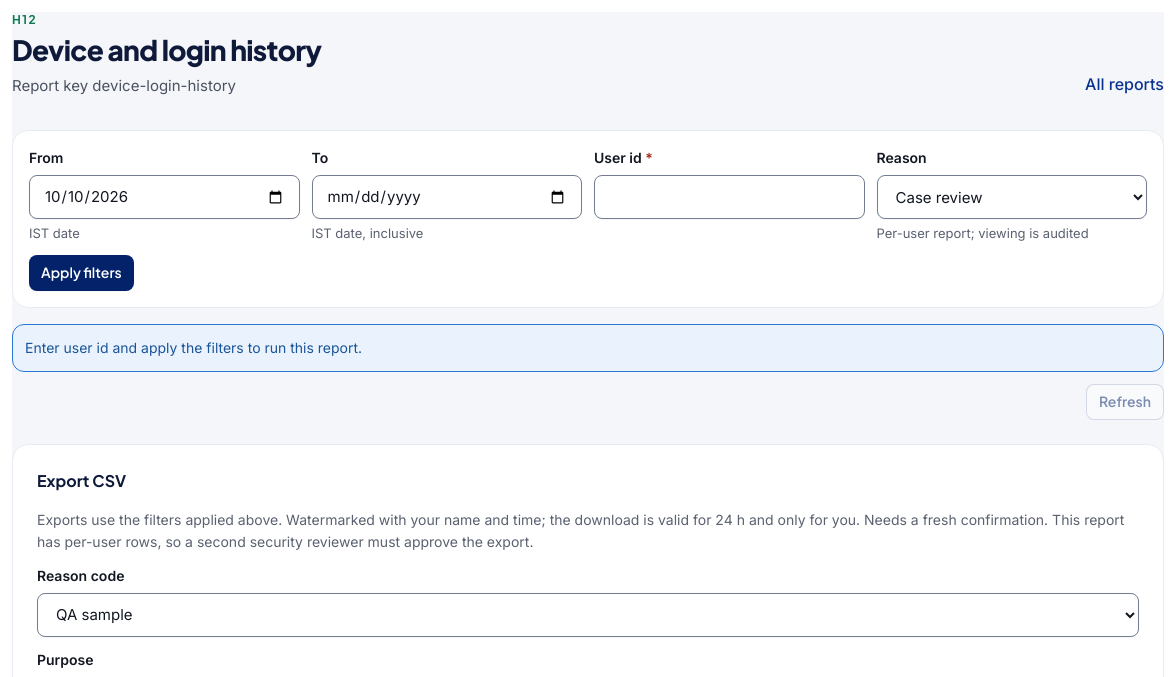
Test: Section H filters and secondary data (w3web: ADM-06/07) › H12 shows the api's 422 user_id error on the User id filter
Expected: the text "Enter user id and apply the filters to run this report." is shown, [12,324,1164,372]
Step 1. Click the field labelled "User id *" → (729, 197), box [594,175,864,219]
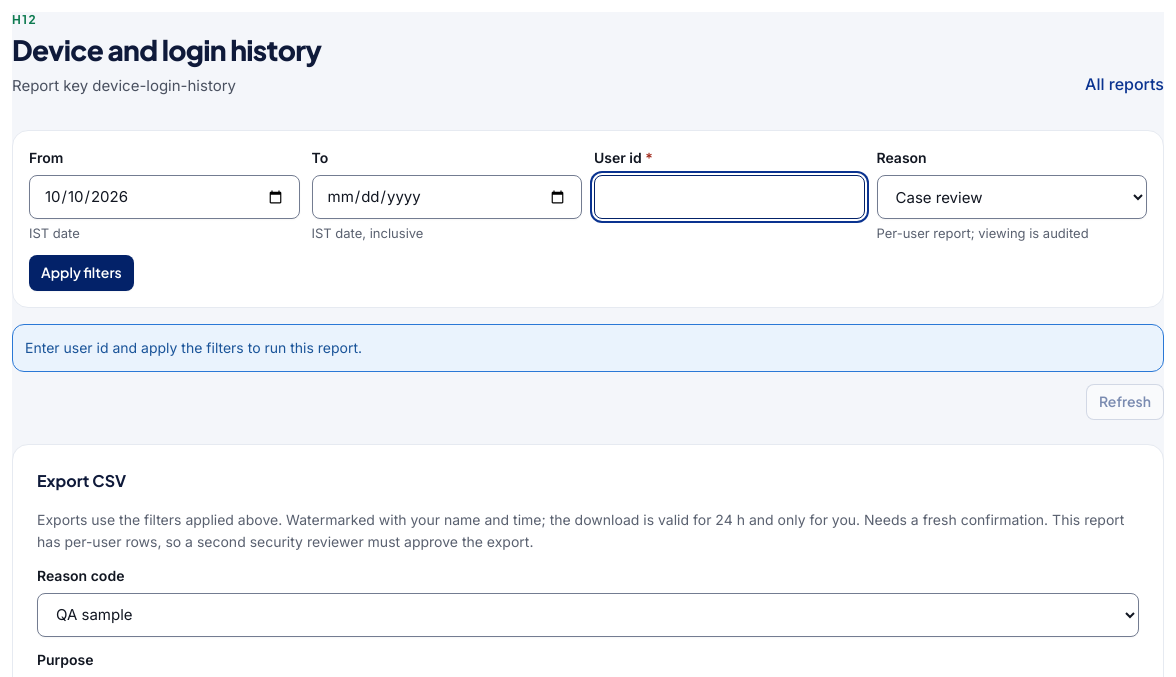
Step 2. Type keys "0192f0a0-0000-7000-8000-000000000001"
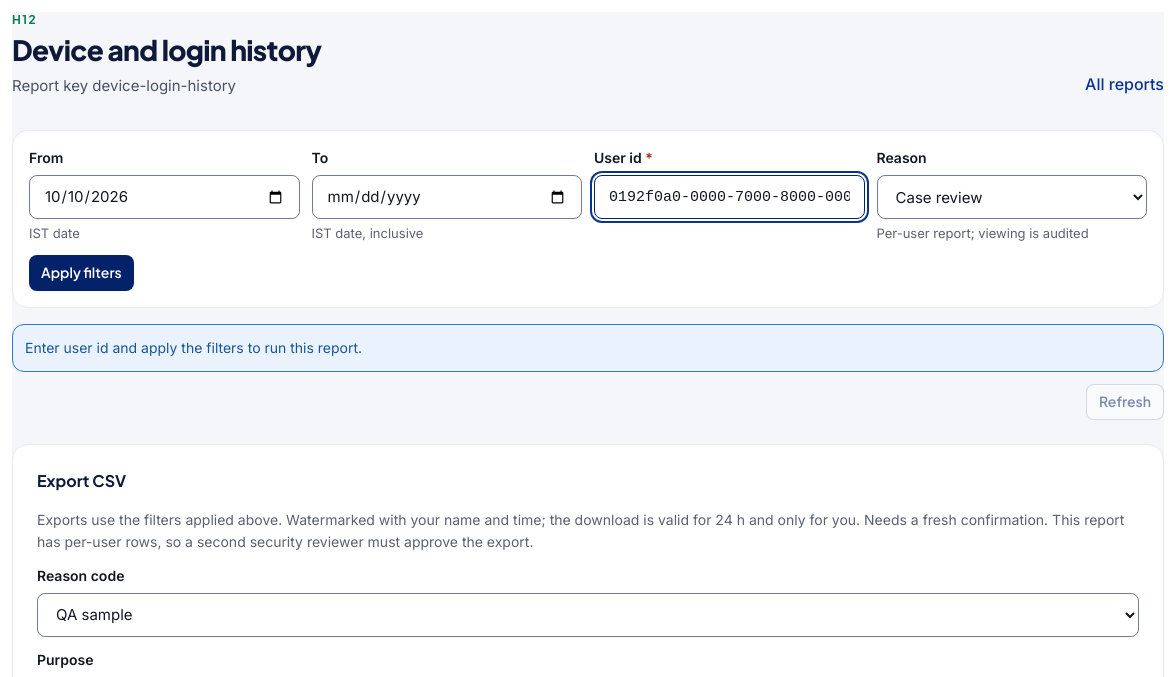
Step 3. Click the button "Apply filters" → (81, 273), box [29,255,134,291]
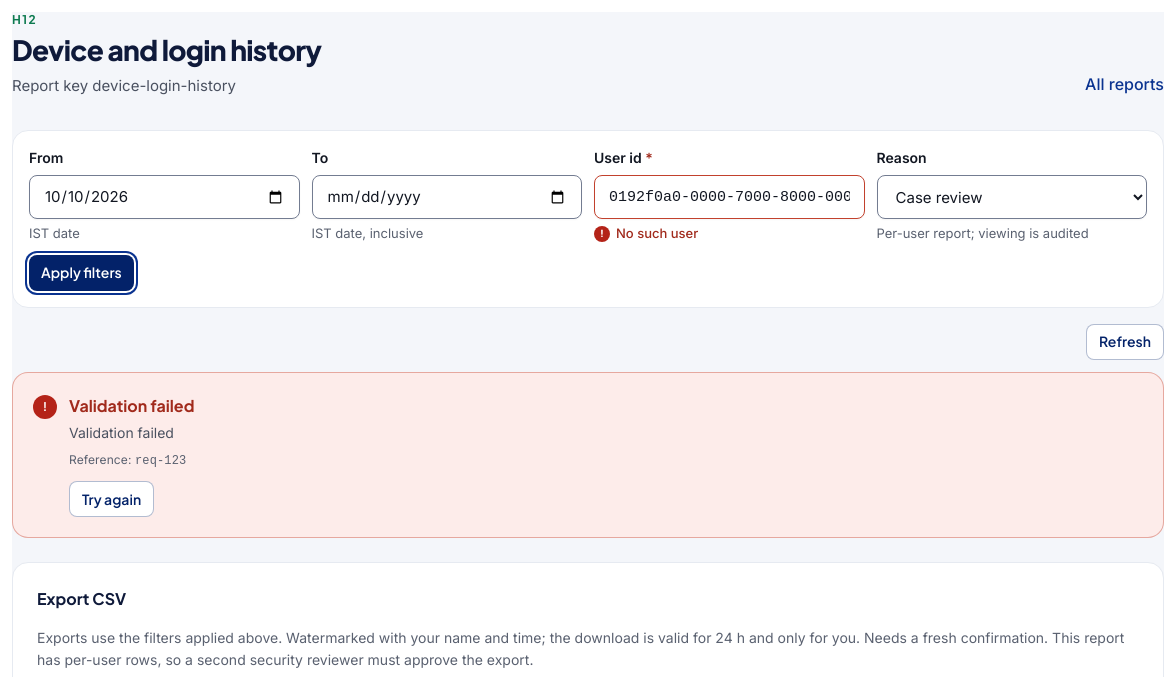
Expected: the text "No such user" is shown, [616,225,698,241]
